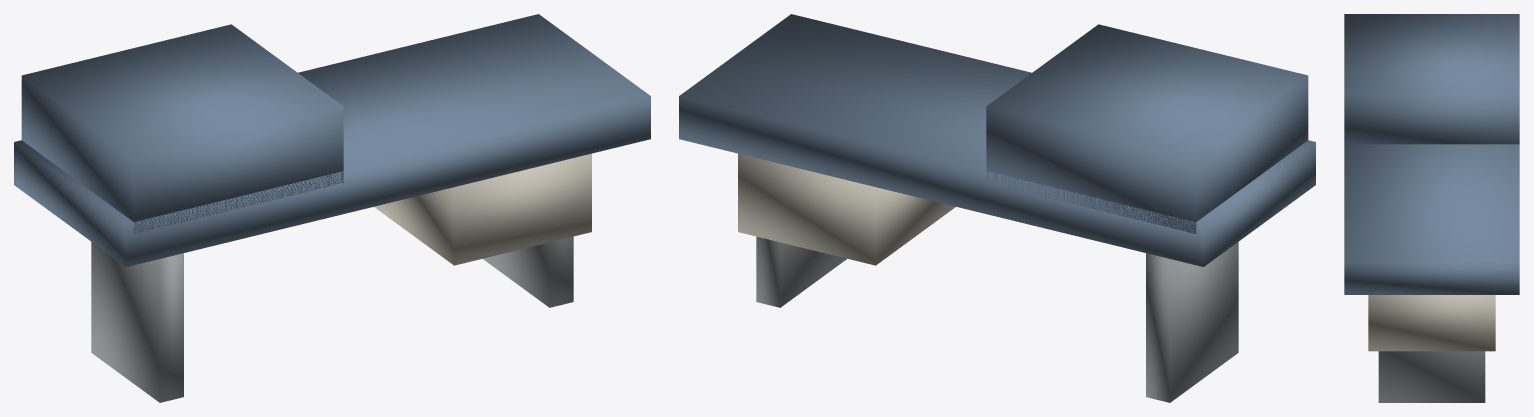
The model's file is exam_table__squat.glb.
The picture shows the model from 3 angles, left to right: view 1: azimuth 30°, elevation 25°; view 2: azimuth 150°, elevation 25°; view 3: azimuth 270°, elevation 25°; orthographic projection. The views are drawn at different scales.
Parts seen in each view (by area): view 1: world; view 2: world; view 3: world.
Part boxes in pixels (x1,y1,x2,y2): world: [14, 14, 650, 402]; world: [679, 14, 1315, 402]; world: [1344, 14, 1519, 402].
Bounding box in the file's own units: 1.92 × 0.9576 × 0.7128.
